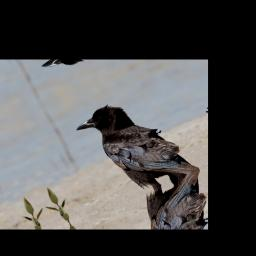Crow: (70, 85, 200, 204)
